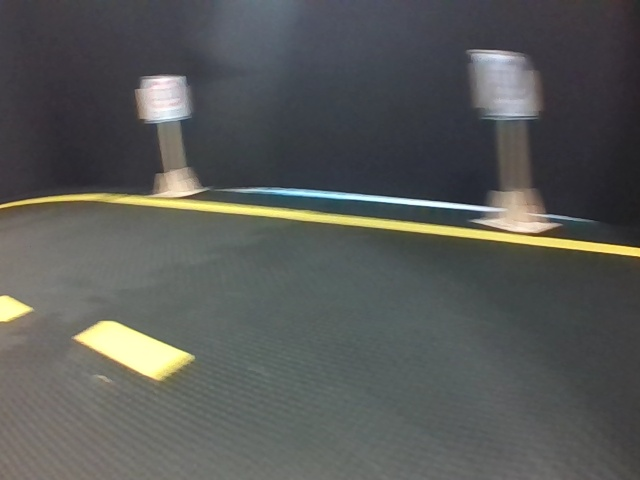30: (143, 75, 189, 121)
no30: (475, 50, 536, 115)
